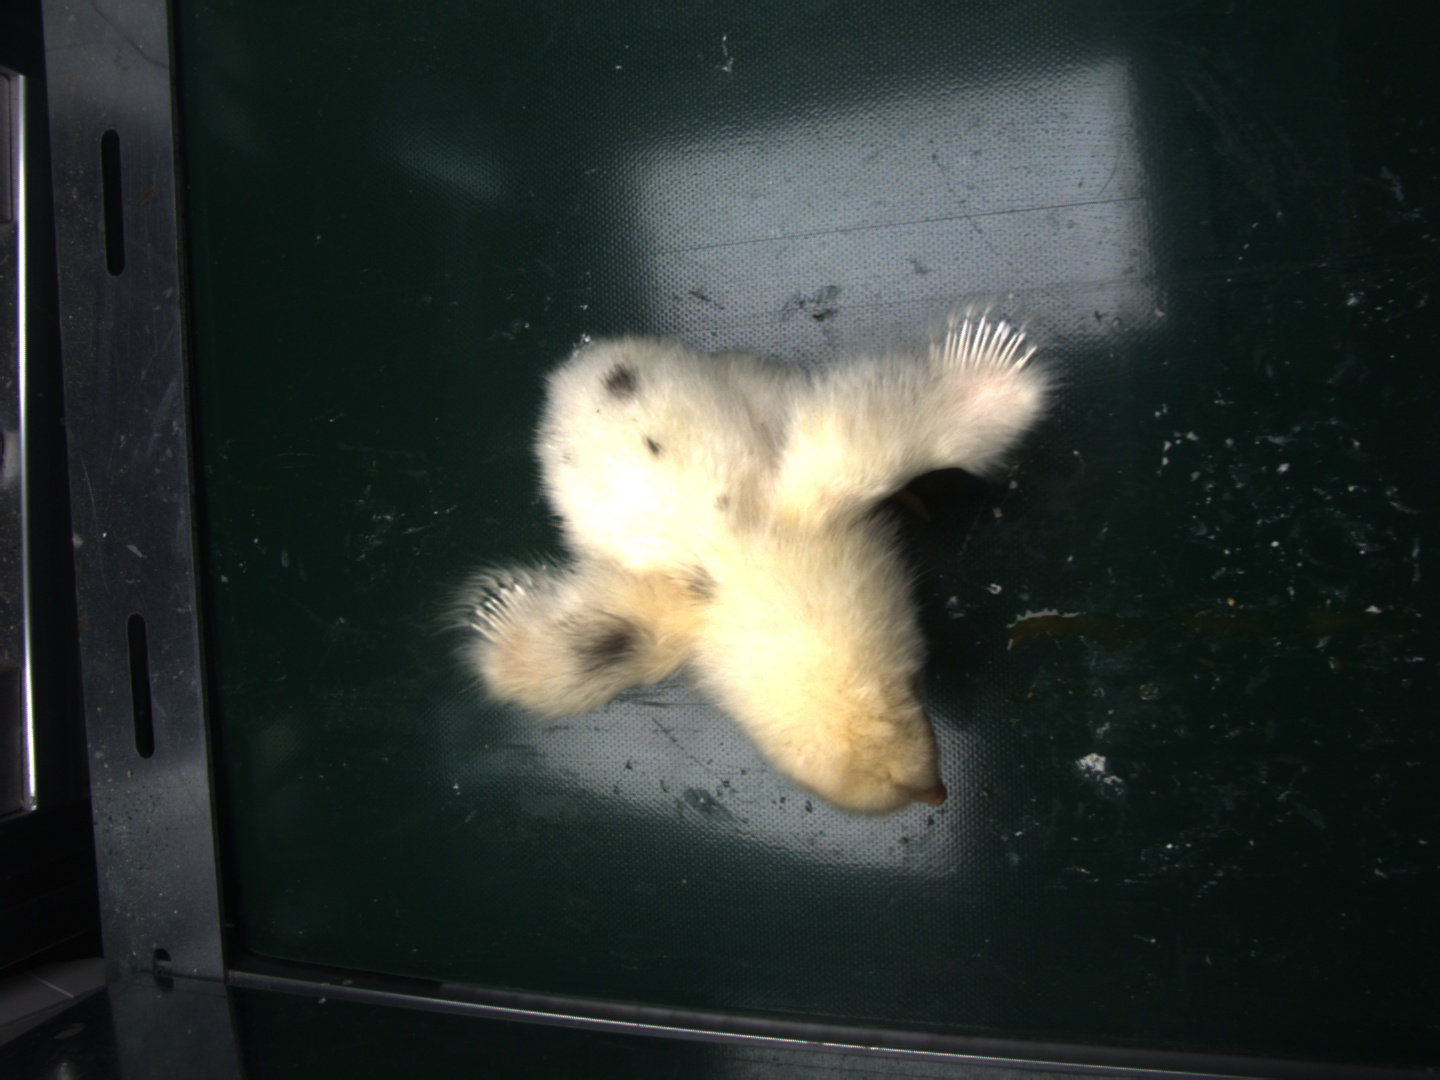male: (940, 313, 1037, 378), (472, 579, 540, 644)
